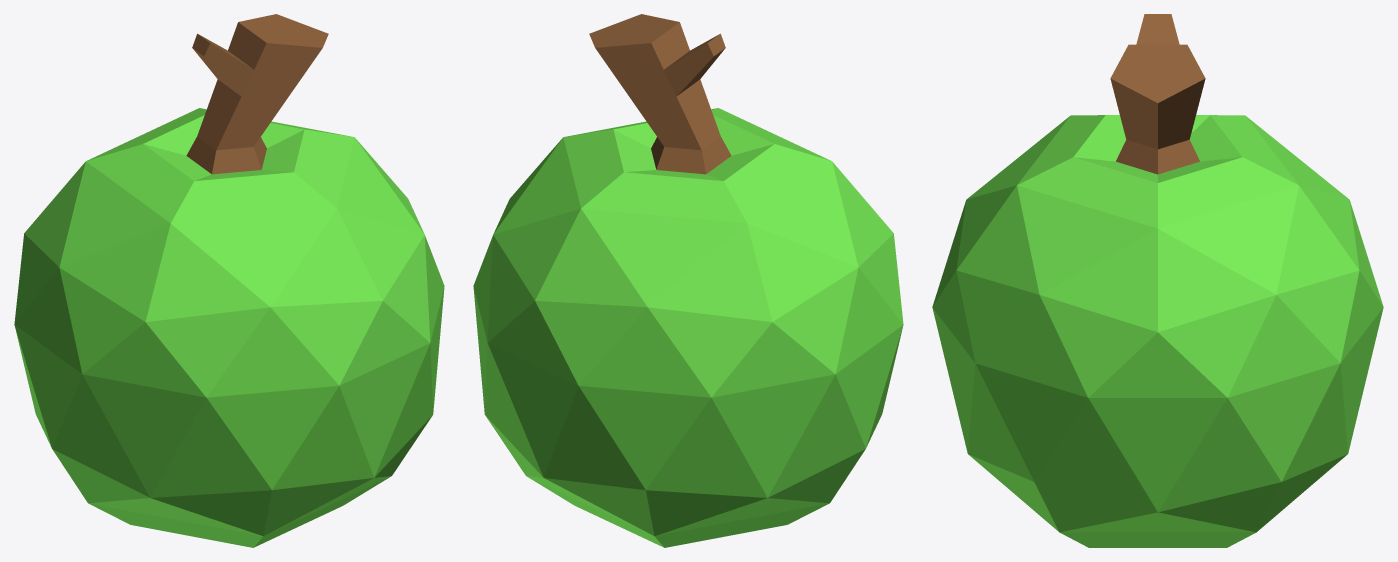
The model's file is item_apple.fbx.
3 views of the same model, side by side, from view 1: azimuth 30°, elevation 25°; view 2: azimuth 150°, elevation 25°; view 3: azimuth 270°, elevation 25° (orthographic). The views are drawn at different scales.
Visible parts, largest first — view 1: Icosphere; view 2: Icosphere; view 3: Icosphere.
Part boxes in pixels (<box>): Icosphere: <box>14,14,444,547</box>; Icosphere: <box>473,14,903,547</box>; Icosphere: <box>932,14,1383,547</box>.
Size of the model in its own units: 190 by 235 by 200.
